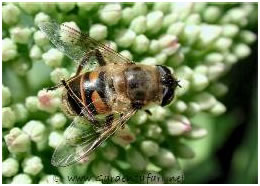green bottles fly: (27, 13, 193, 165)
